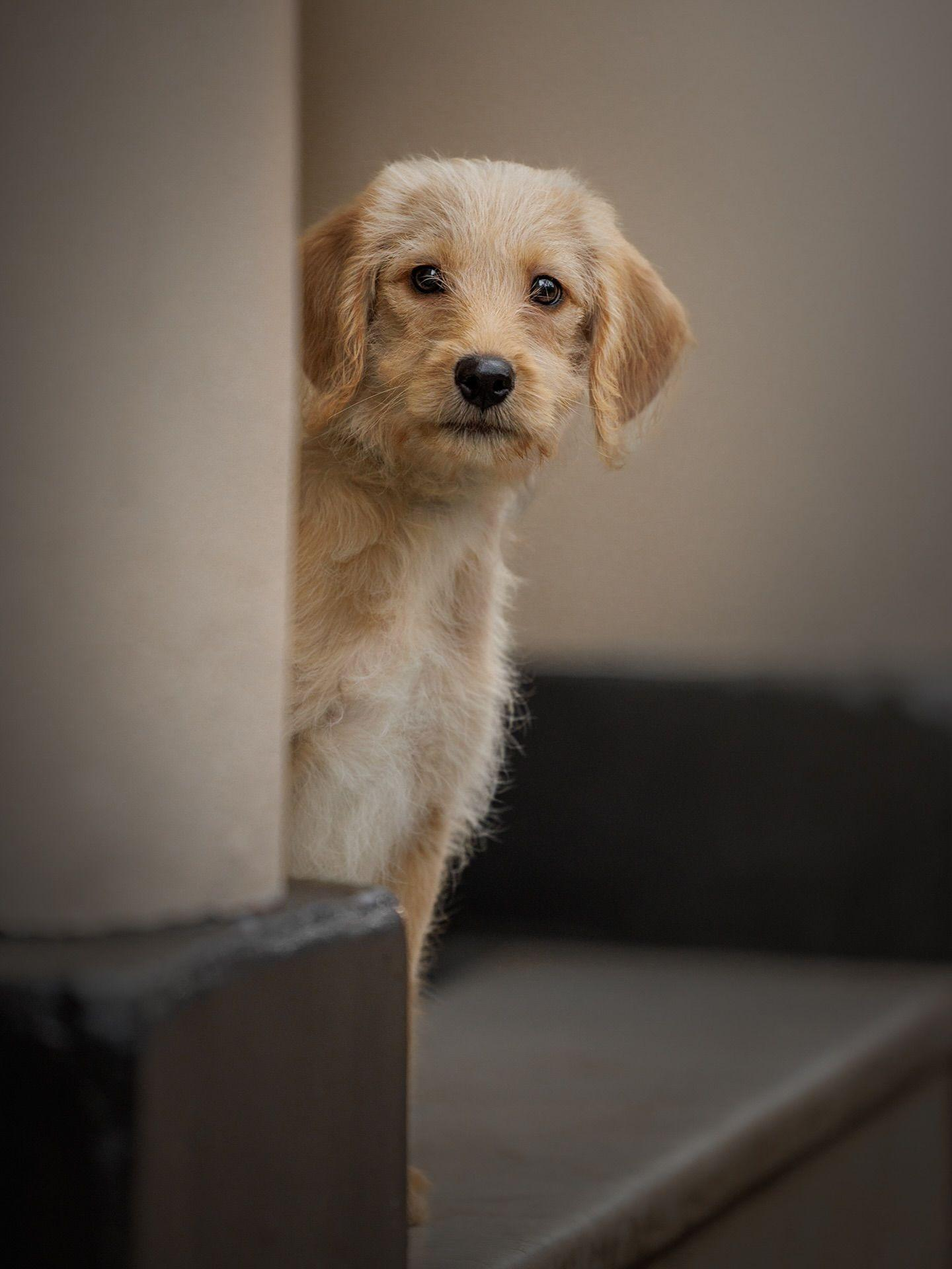puppy-dog: (279, 153, 694, 1226)
